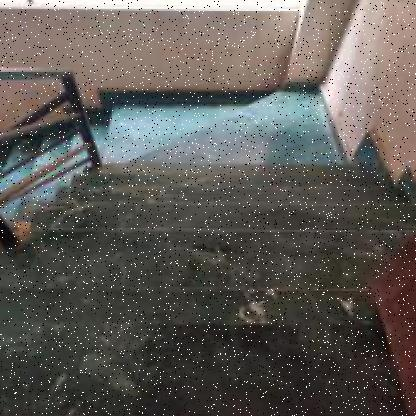stair_down: (27, 212, 365, 382)
